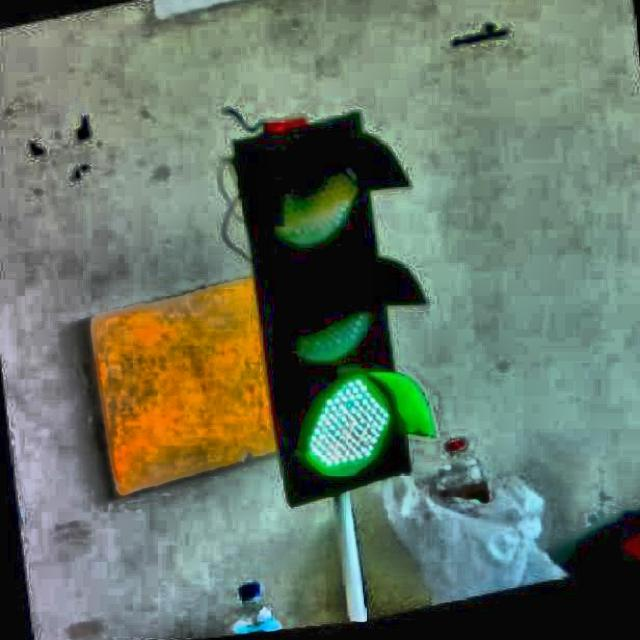green: (235, 110, 416, 486)
